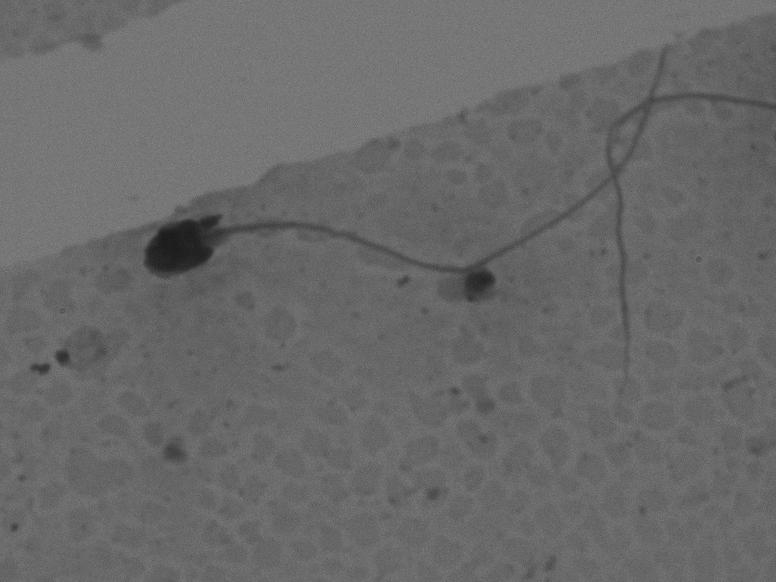Abnormal: (125, 73, 724, 318)
